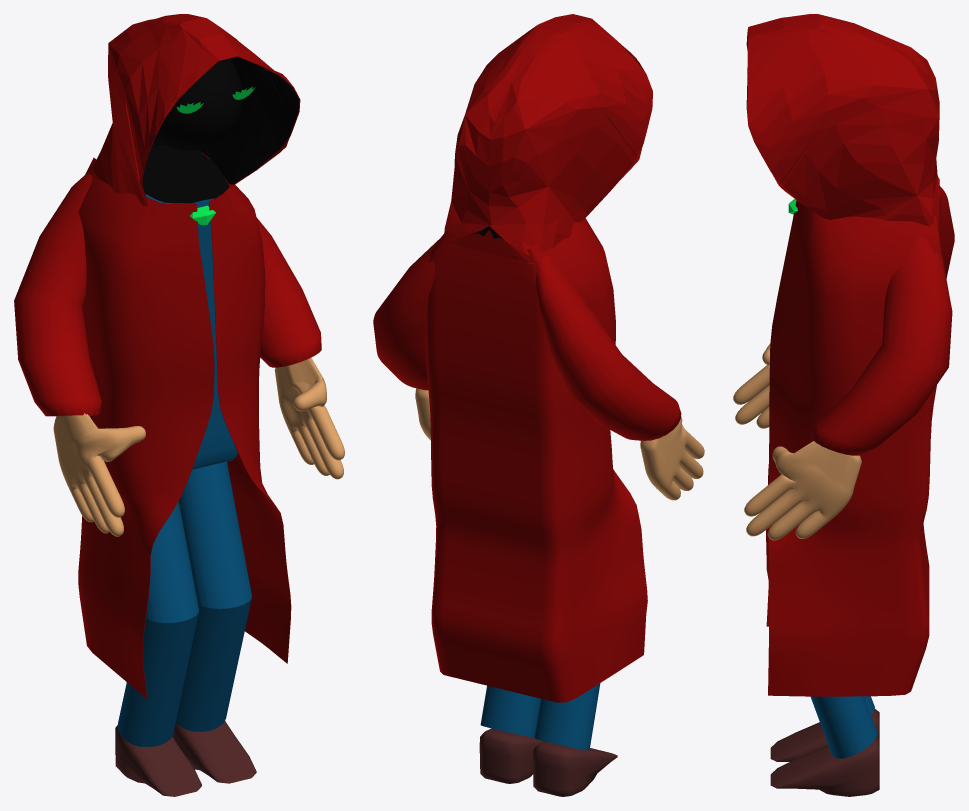
Rendered from Main Character Idle.fbx.
3 renders of one model, left to right at view 1: azimuth 30°, elevation 25°; view 2: azimuth 150°, elevation 25°; view 3: azimuth 270°, elevation 25°, orthographic. The views are drawn at different scales.
Parts seen in each view (by area): view 1: pPlane1, pPlane2, pCylinder5, pCylinder2, pCylinder4, pCube5, pCylinder3, pCube6, pSphere4, pDisc6, pCube3, pCube4 (+1 smaller); view 2: pPlane1, pPlane2, pCylinder2, pCylinder3, pCube5, pCube3, pCylinder4, pCube4, pCylinder5; view 3: pPlane1, pPlane2, pCylinder3, pCube6, pCube4, pCylinder5, pCube5, pCube3, pCylinder2.
Boxes of the visible parts, x1,y1,x2,y2 form: pPlane1: [78, 152, 291, 698]; pPlane2: [91, 14, 300, 206]; pCylinder5: [176, 461, 251, 731]; pCylinder2: [14, 173, 101, 416]; pCylinder4: [117, 501, 198, 746]; pCube5: [53, 413, 145, 536]; pCylinder3: [257, 218, 321, 367]; pCube6: [274, 358, 344, 479]; pSphere4: [154, 58, 242, 150]; pDisc6: [142, 144, 229, 203]; pCube3: [115, 725, 201, 796]; pCube4: [172, 721, 256, 783]; pPlane1: [425, 218, 647, 702]; pPlane2: [444, 14, 652, 263]; pCylinder2: [535, 255, 681, 440]; pCylinder3: [373, 237, 441, 390]; pCube5: [640, 416, 704, 500]; pCube3: [533, 741, 617, 796]; pCylinder4: [534, 683, 600, 750]; pCube4: [479, 728, 544, 783]; pCylinder5: [480, 685, 540, 737]; pPlane1: [766, 195, 941, 696]; pPlane2: [746, 14, 939, 226]; pCylinder3: [811, 237, 952, 455]; pCube6: [744, 441, 861, 540]; pCube4: [770, 736, 879, 796]; pCylinder5: [810, 696, 877, 758]; pCube5: [733, 344, 770, 428]; pCube3: [770, 708, 879, 761]; pCylinder2: [939, 186, 954, 278].
Size of the model in its own units: 4.28 by 10.96 by 2.91.
